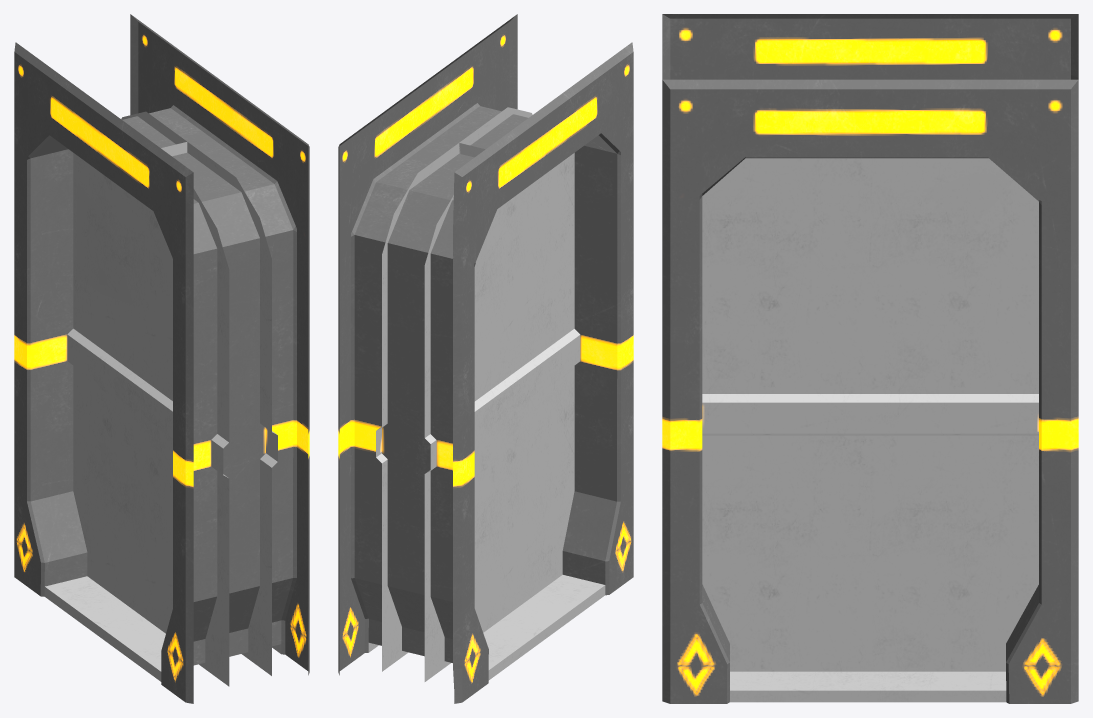
Rendered from TX_Puerta sala escape extra_ESC.fbx.
3 views of the same model, side by side, from view 1: azimuth 30°, elevation 25°; view 2: azimuth 150°, elevation 25°; view 3: azimuth 270°, elevation 25° (orthographic). The views are drawn at different scales.
Parts seen in each view (by area): view 1: marco_puerta_ESC, puerta_i_ESC, puerta_d_ESC; view 2: marco_puerta_ESC, puerta_d_ESC, puerta_i_ESC; view 3: marco_puerta_ESC, puerta_d_ESC, puerta_i_ESC.
Boxes of the visible parts, <box> form: marco_puerta_ESC: <box>14,14,309,703</box>; puerta_i_ESC: <box>67,111,187,617</box>; puerta_d_ESC: <box>128,142,277,686</box>; marco_puerta_ESC: <box>338,14,633,703</box>; puerta_d_ESC: <box>459,107,580,618</box>; puerta_i_ESC: <box>376,143,501,681</box>; marco_puerta_ESC: <box>662,14,1078,703</box>; puerta_d_ESC: <box>702,158,897,671</box>; puerta_i_ESC: <box>872,158,1038,671</box>.
Size of the model in its own units: 49.62 by 203 by 124.
1 material, 1 textured.
